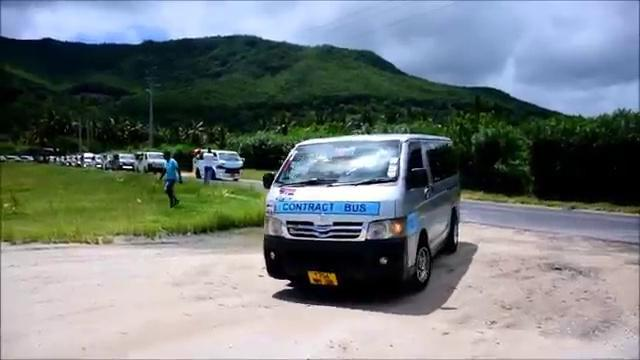Van: (258, 133, 463, 299)
